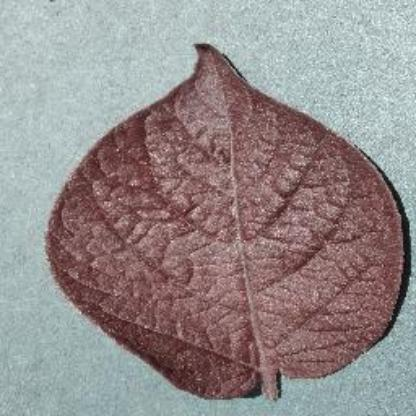Healthy-plant: (46, 38, 406, 406)
